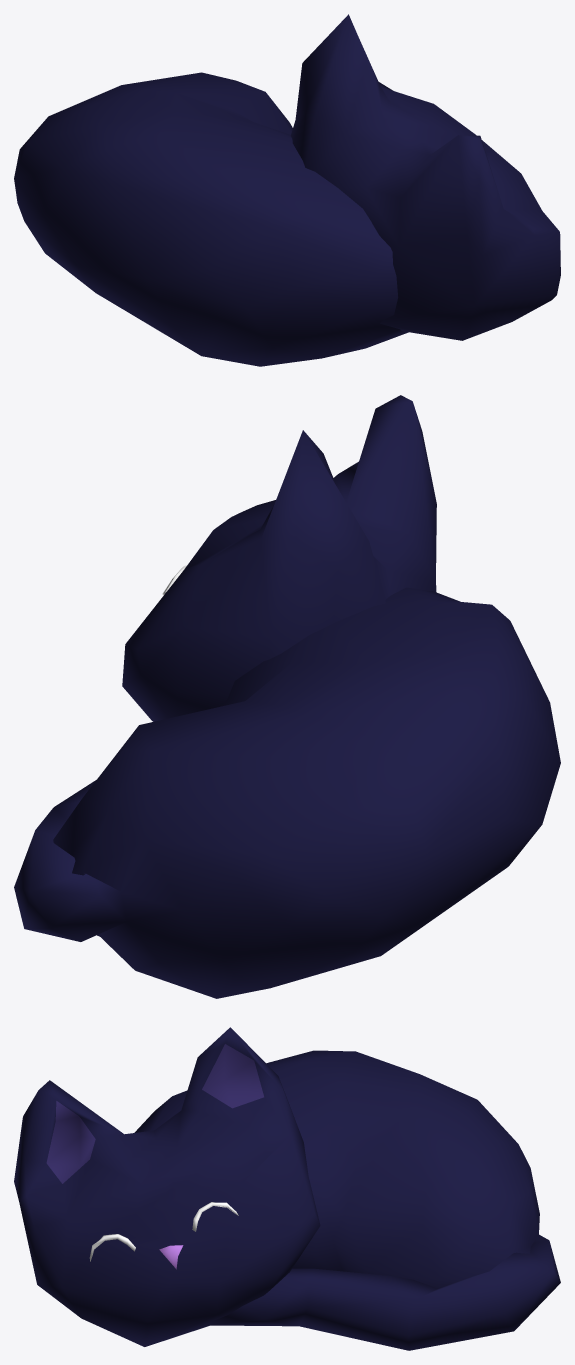
File: Cat.fbx
3 renders of one model, top to bottom at view 1: azimuth 30°, elevation 25°; view 2: azimuth 150°, elevation 25°; view 3: azimuth 270°, elevation 25°, orthographic. The views are drawn at different scales.
Parts seen in each view (by area): view 1: Cat; view 2: Cat; view 3: Cat.
Boxes of the visible parts, x1,y1,x2,y2 form: Cat: (14, 14, 560, 366); Cat: (14, 395, 560, 998); Cat: (14, 1027, 560, 1350).
Bounding box in the file's own units: 289 × 259 × 403.
